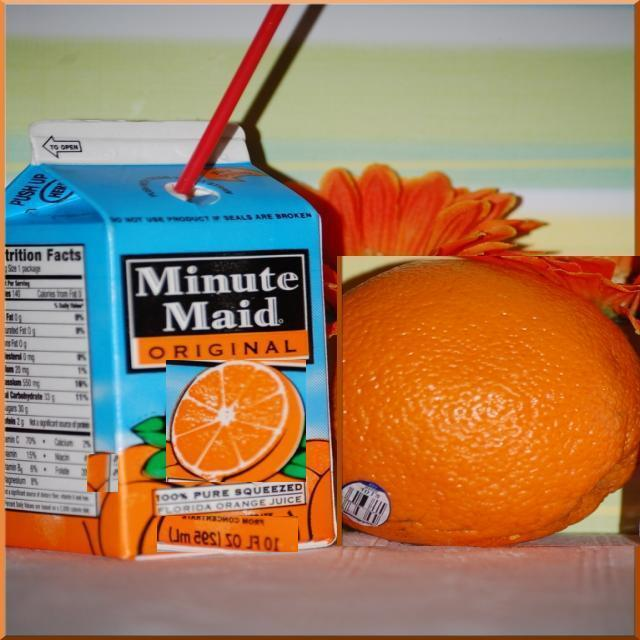Orange: (337, 256, 640, 546), (176, 360, 302, 486)
